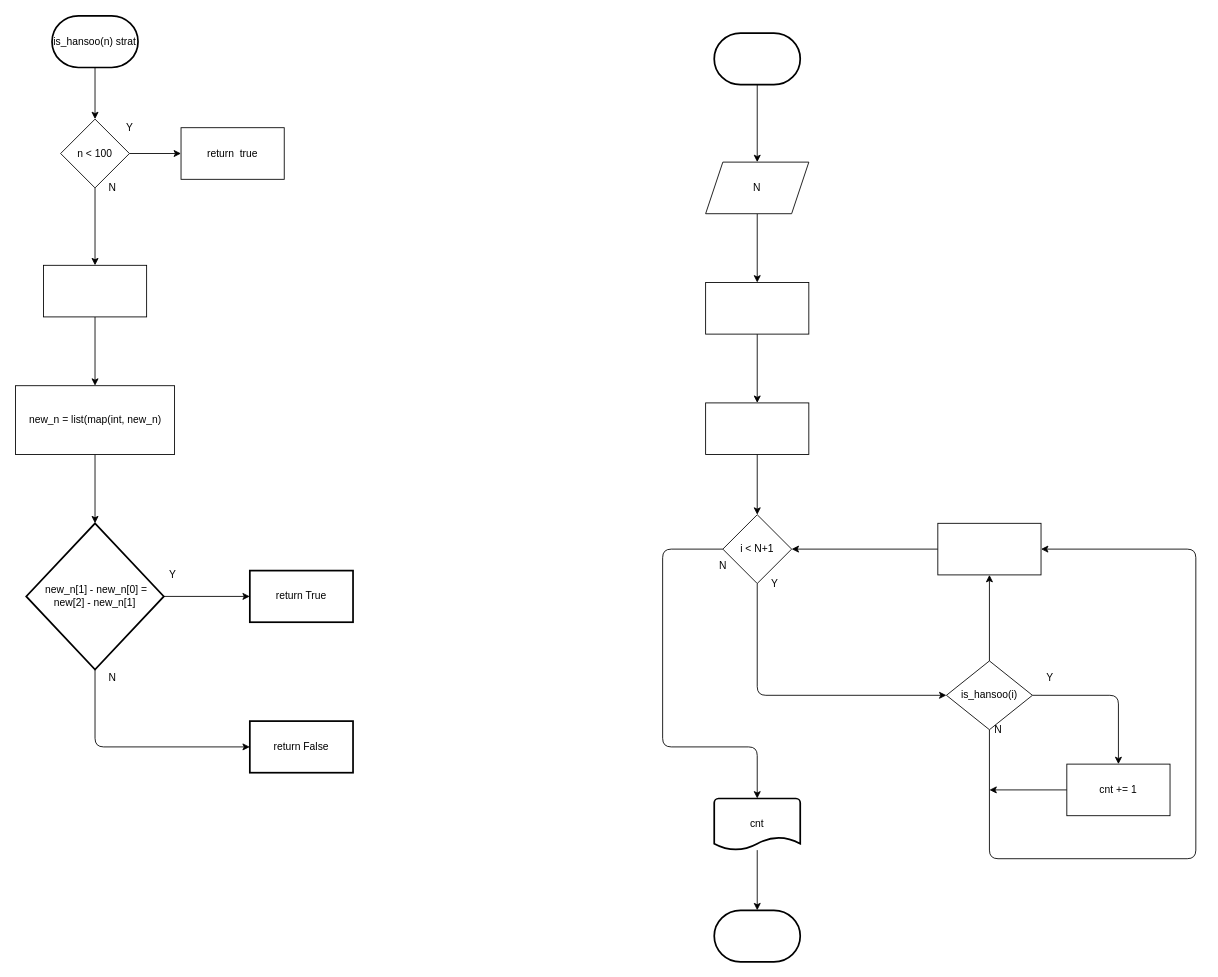
This 1218x977 diagram has some shape labels left out. Here are the shapes that lost their labels. From the top down, the centre of each, then its label:
(x=757, y=58): start
(x=95, y=290): new_n = list(str(n))
(x=757, y=308): cnt = 0
(x=757, y=428): i = 1
(x=989, y=548): i += 1
(x=757, y=935): finish
